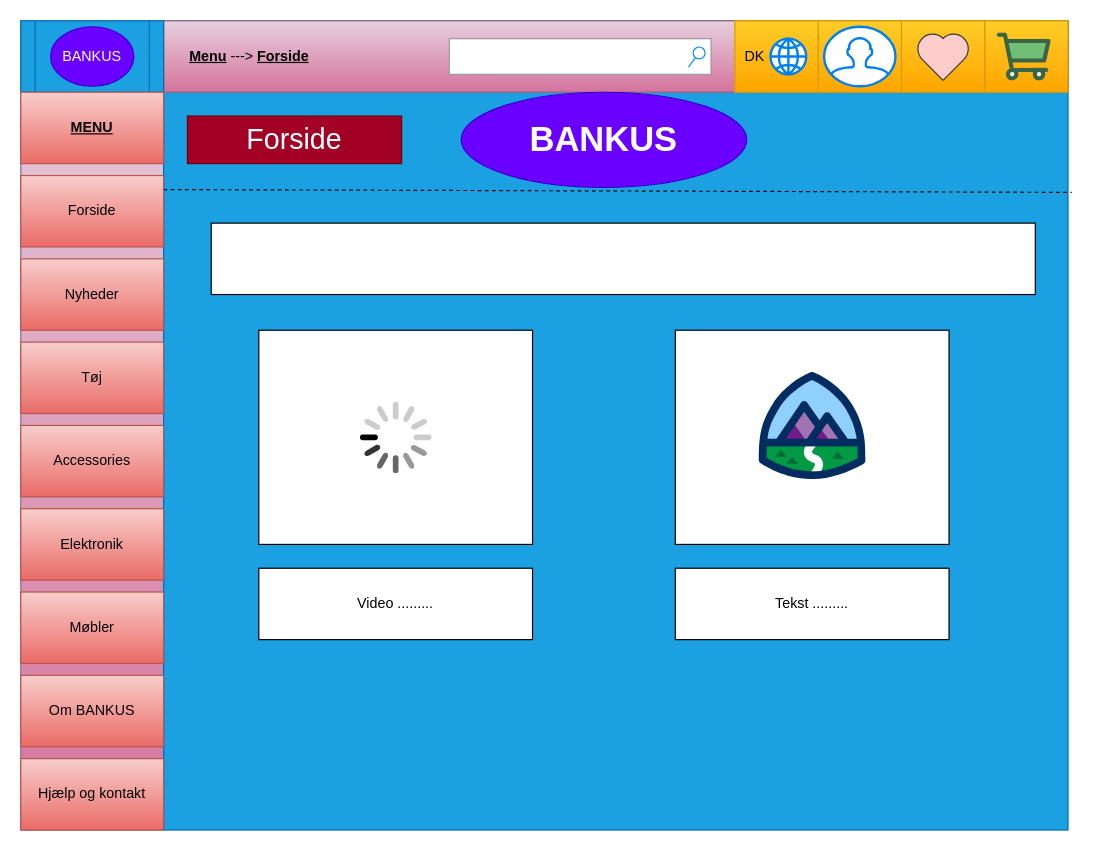
This 1095x851 diagram has some shape labels left out. Each missing label, with the centre of its shape:
"Search" goes at (x=579, y=55).
"VELKOMMEN TIL BANKUS!" goes at (x=622, y=258).
